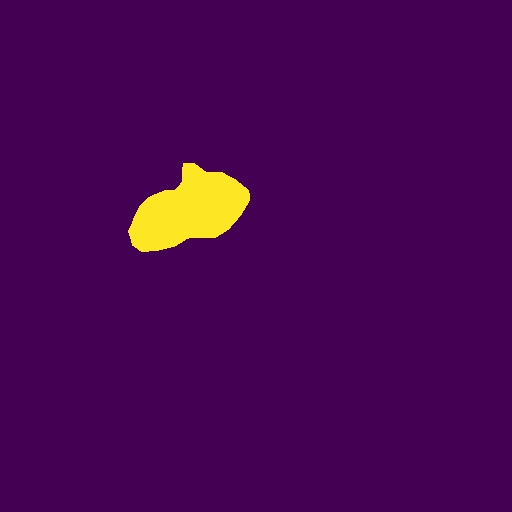Gliomia_tumour: (128, 163, 250, 252)
